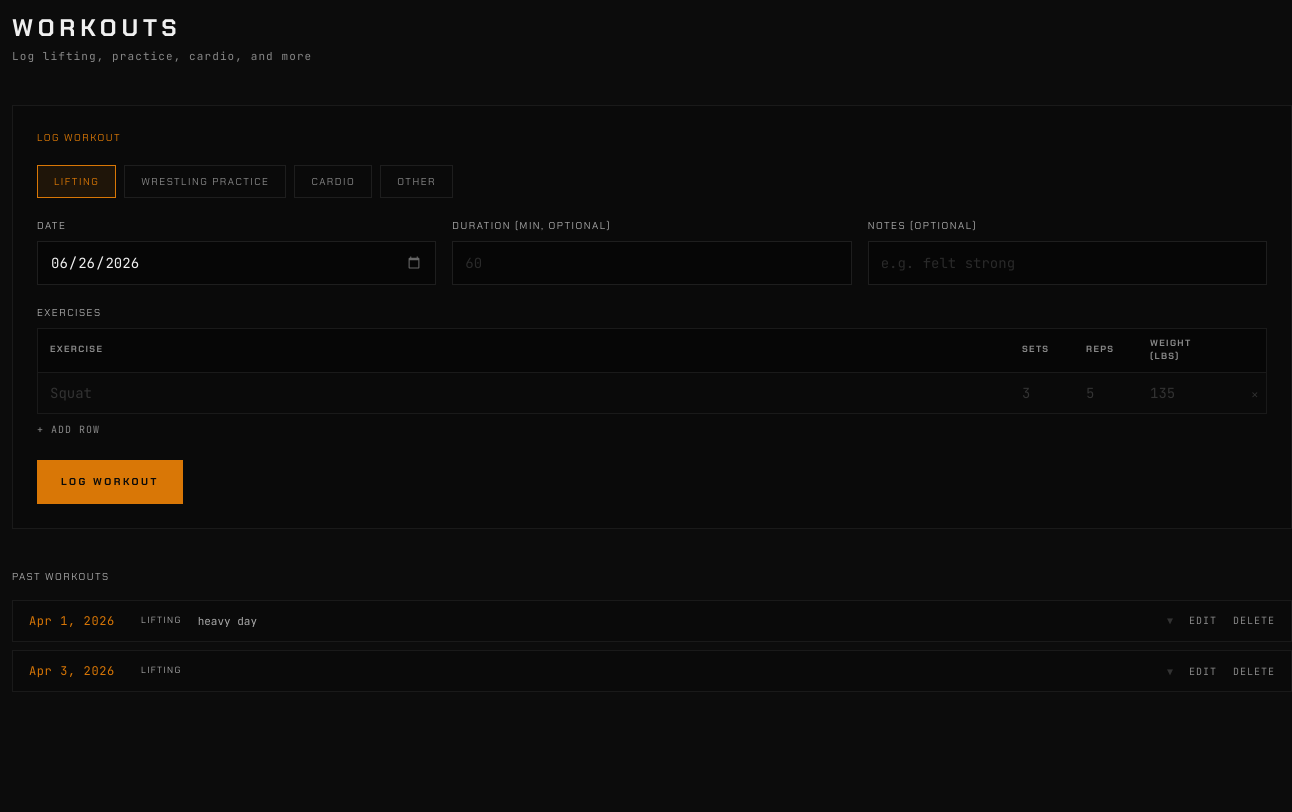
it: Workouts › add/remove exercise rows
Expected: the heading "WORKOUTS" is shown, left=12, top=12, right=181, bottom=43
Expected: the number of fields with placeholder "Squat" is 1, left=46, top=378, right=1002, bottom=406
Add a row
Click the button "+ ADD ROW". click: (68, 429)
box: left=37, top=422, right=100, bottom=436
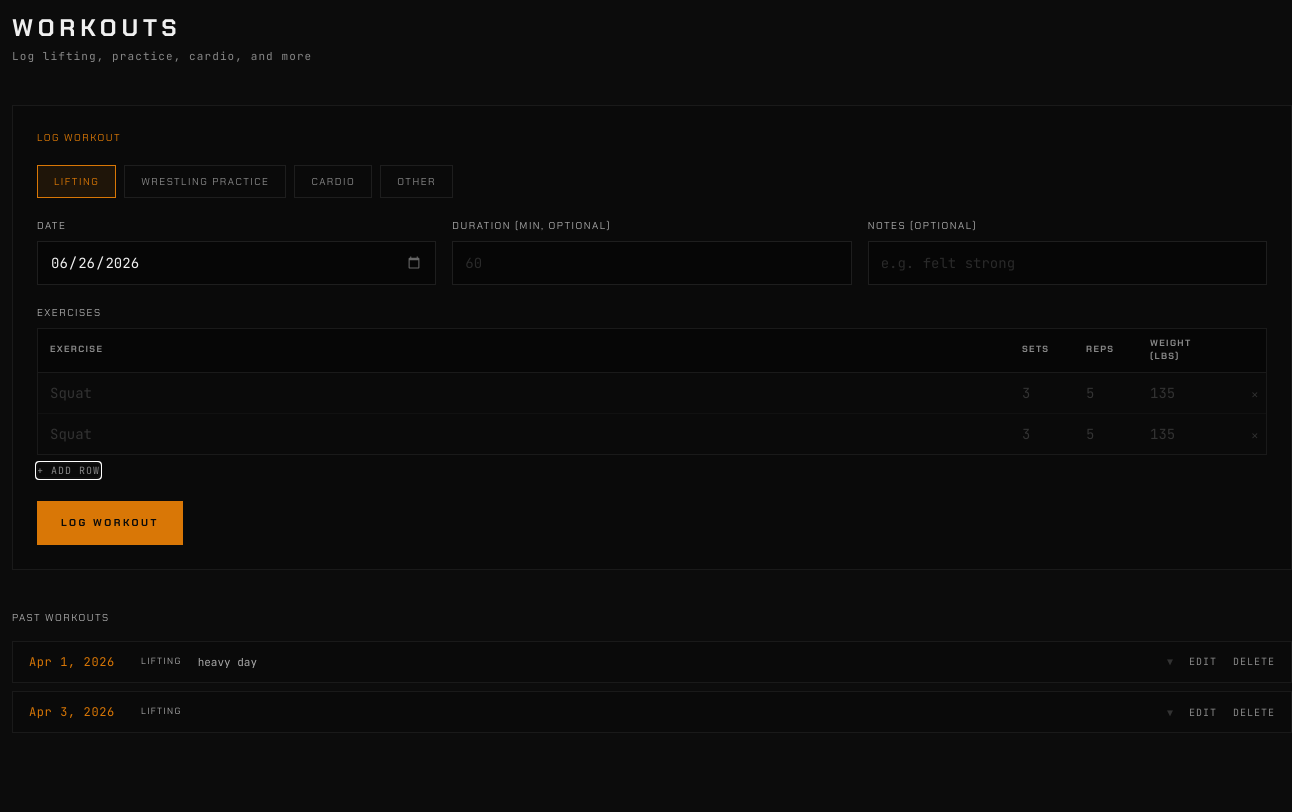
Now the number of fields with placeholder "Squat" is 2, box left=46, top=378, right=1002, bottom=406; left=46, top=420, right=1002, bottom=448
Remove a row (click ✕)
Click the 1st button "✕". click: (1255, 394)
box: left=1251, top=386, right=1258, bottom=402
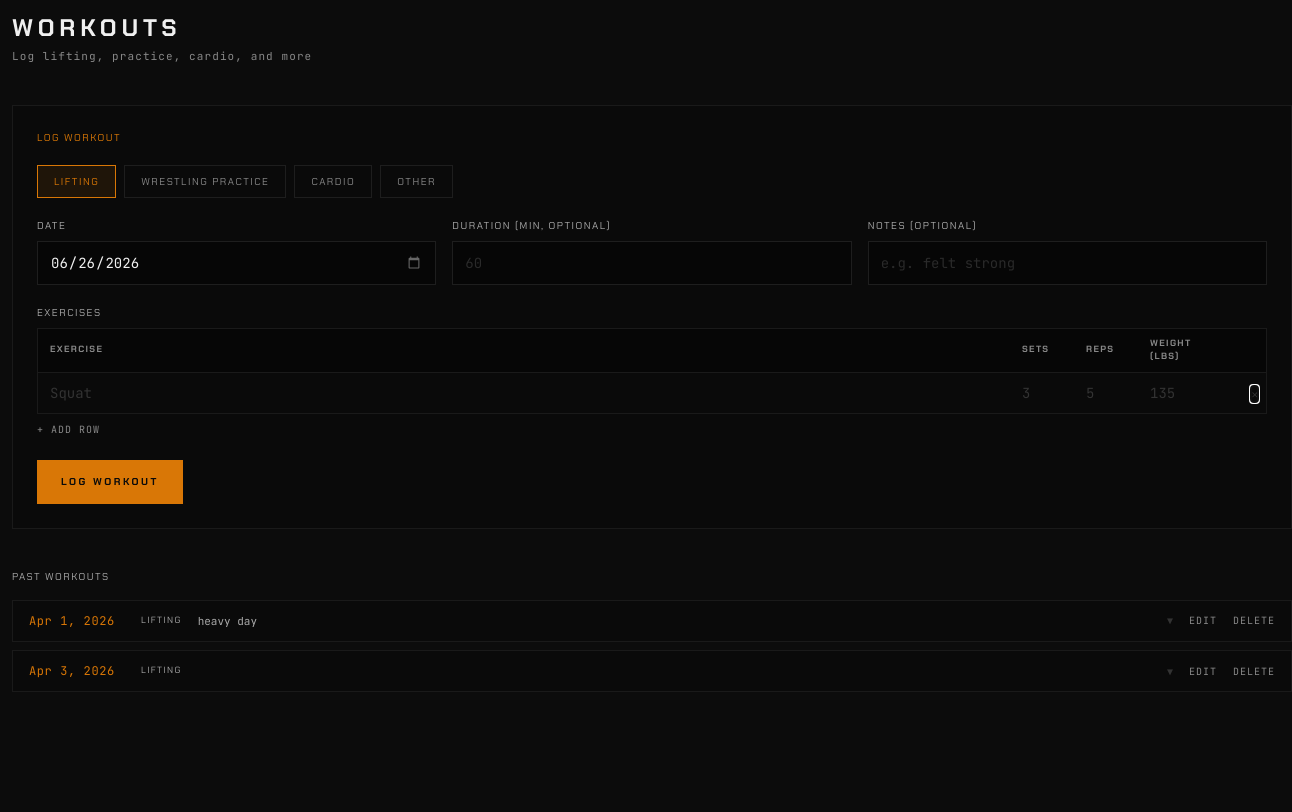
Now the number of fields with placeholder "Squat" is 1, box left=46, top=378, right=1002, bottom=406
